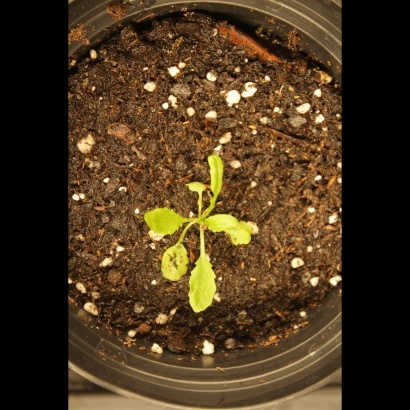leaf: (183, 250, 219, 316), (200, 209, 256, 250), (200, 150, 232, 197), (139, 204, 183, 236), (159, 240, 190, 283), (180, 171, 208, 199)
